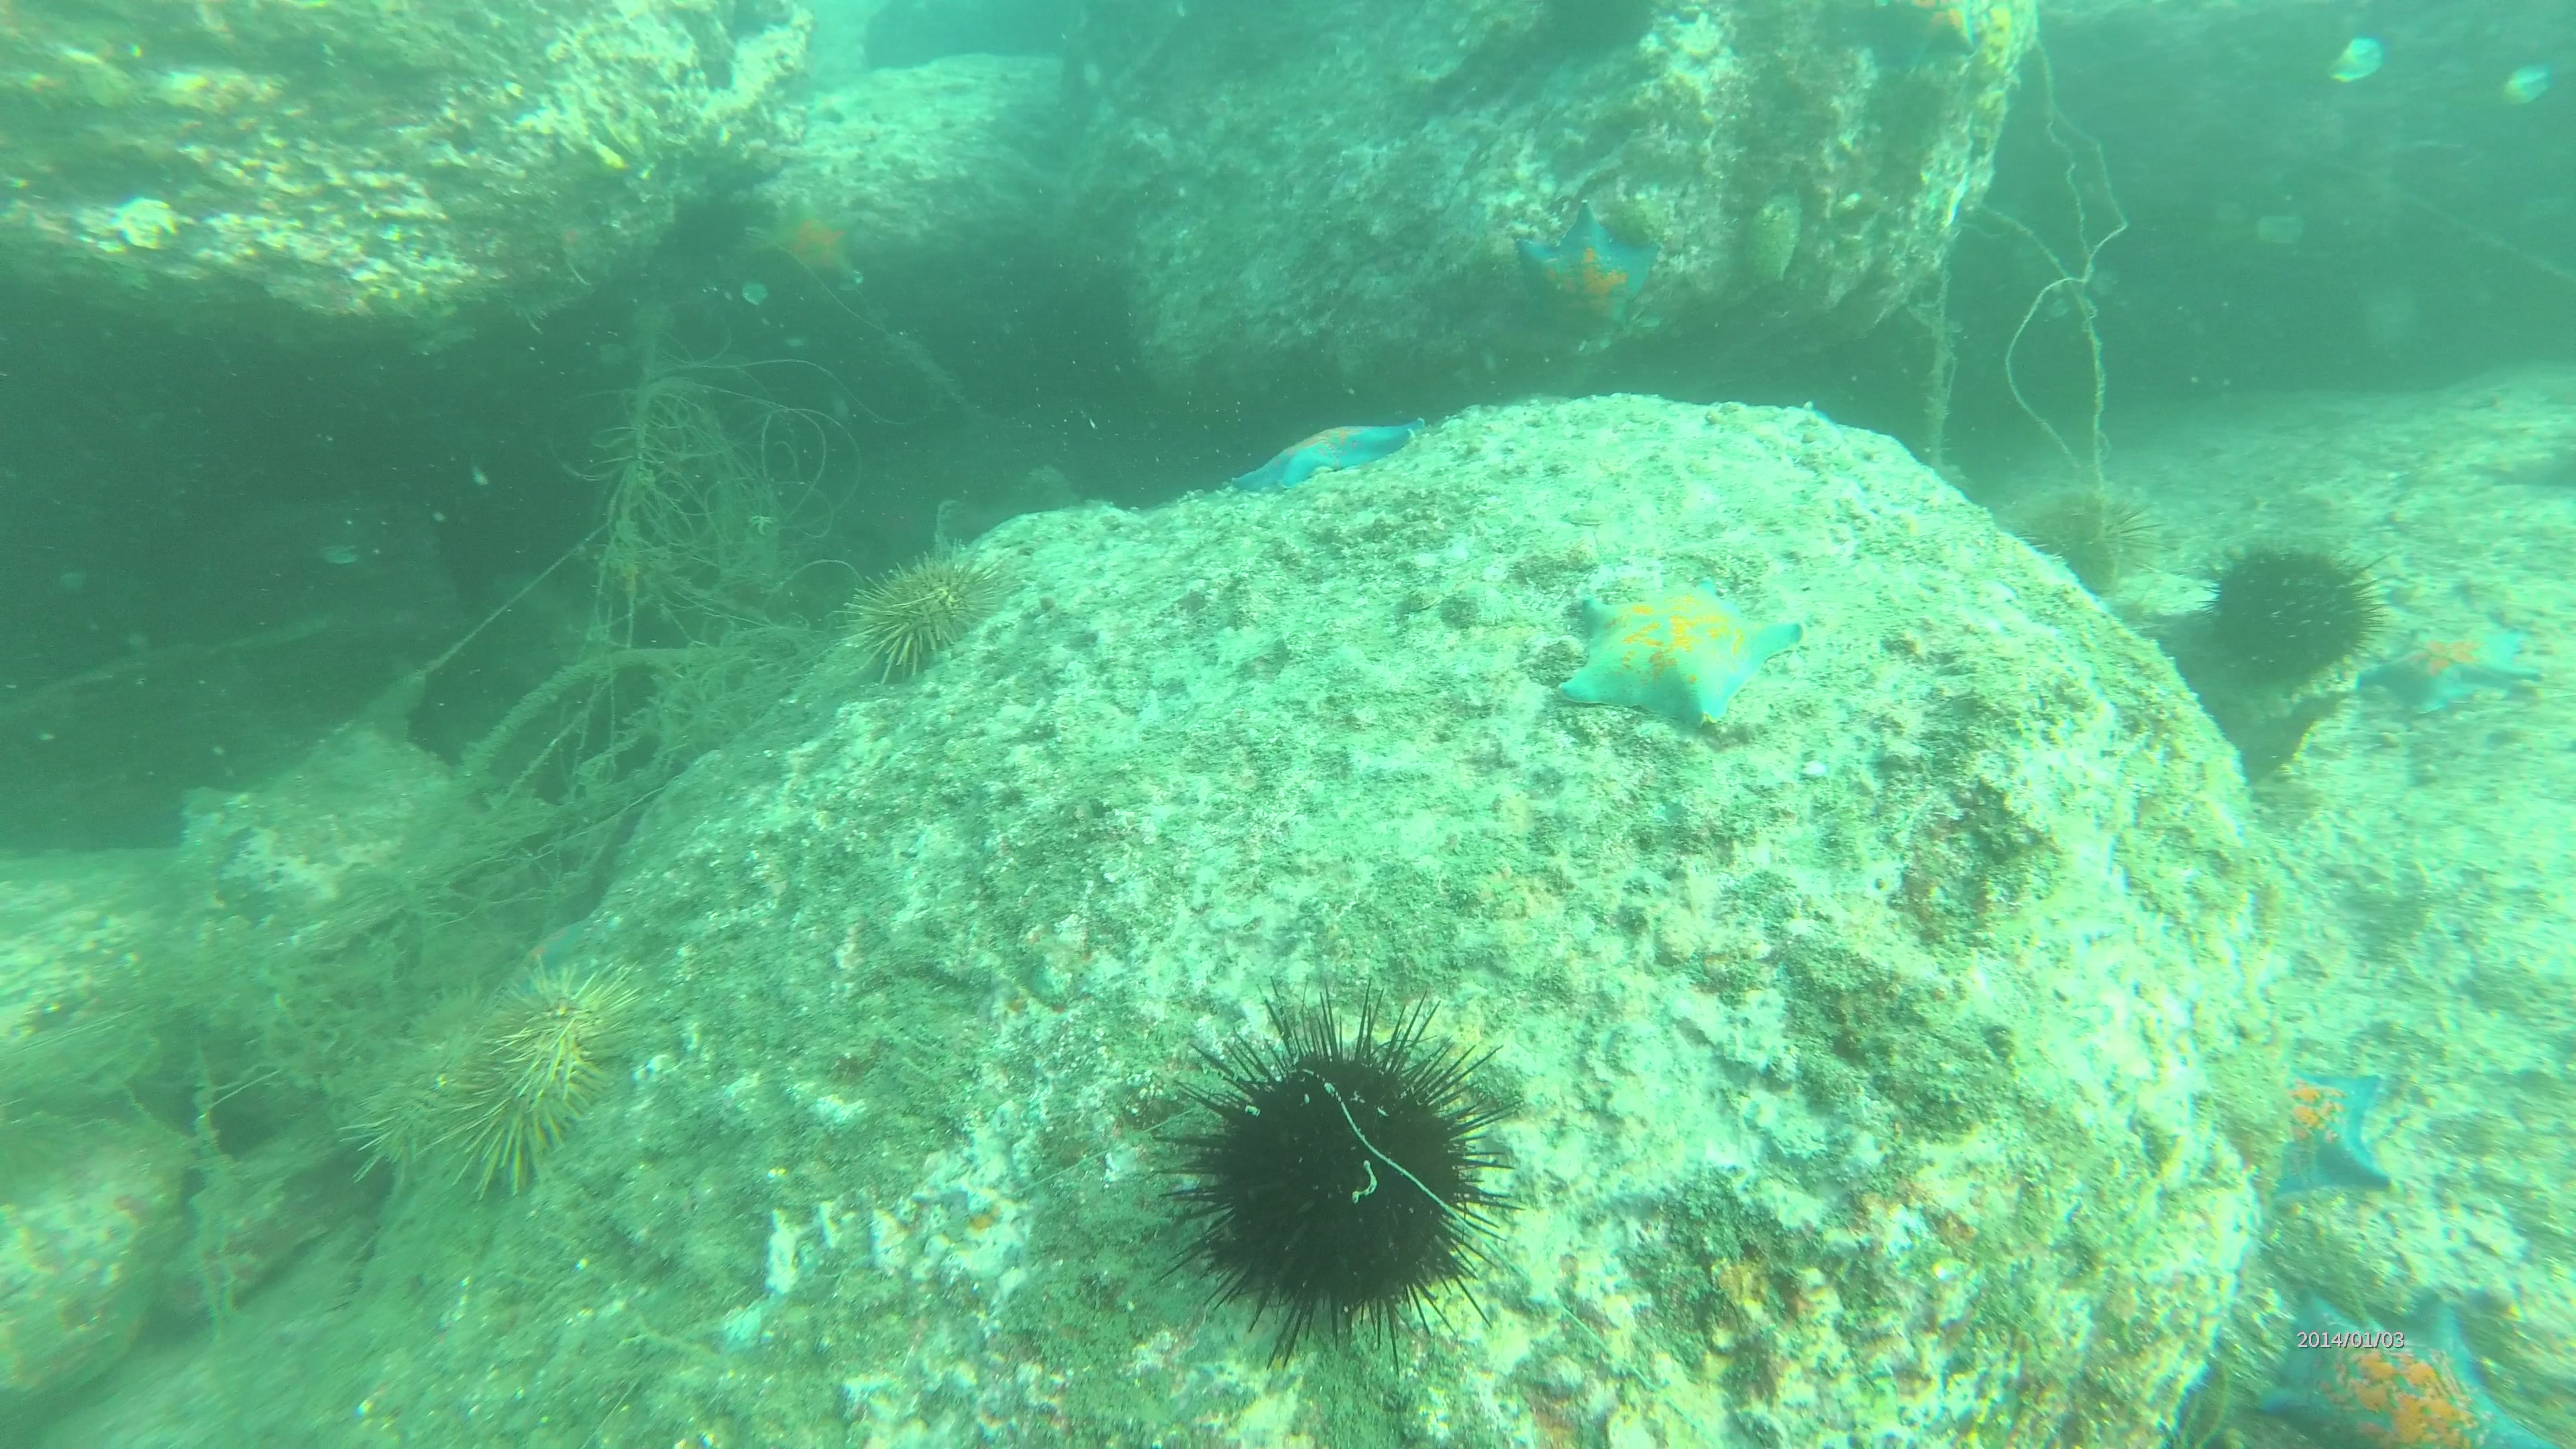echinus: (1173, 1033, 1506, 1327), (2215, 543, 2381, 686), (421, 1047, 577, 1200), (853, 556, 1019, 681), (487, 975, 644, 1099), (364, 1044, 476, 1182), (2026, 490, 2160, 591)
starfish: (1569, 580, 1798, 736), (2286, 1295, 2486, 1426), (1522, 214, 1668, 341), (2273, 1062, 2394, 1205), (2369, 623, 2535, 725), (1233, 416, 1419, 499), (757, 196, 878, 306)
